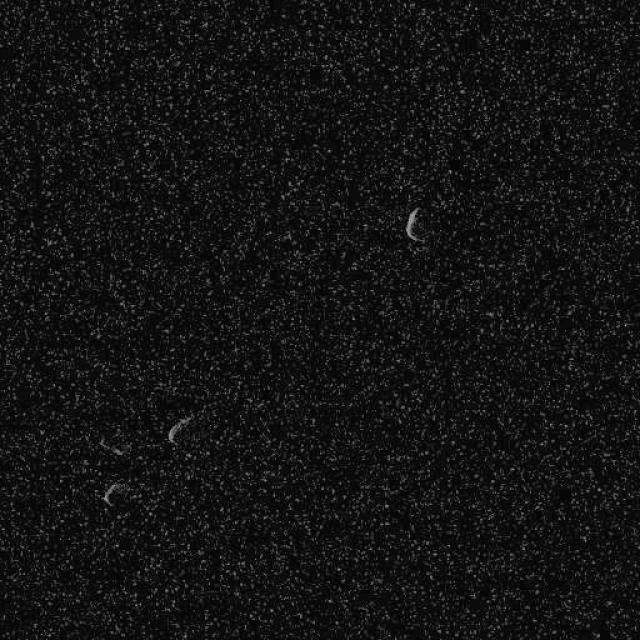D2: (165, 414, 193, 444), (404, 205, 426, 243), (100, 480, 125, 508), (97, 437, 125, 458)
